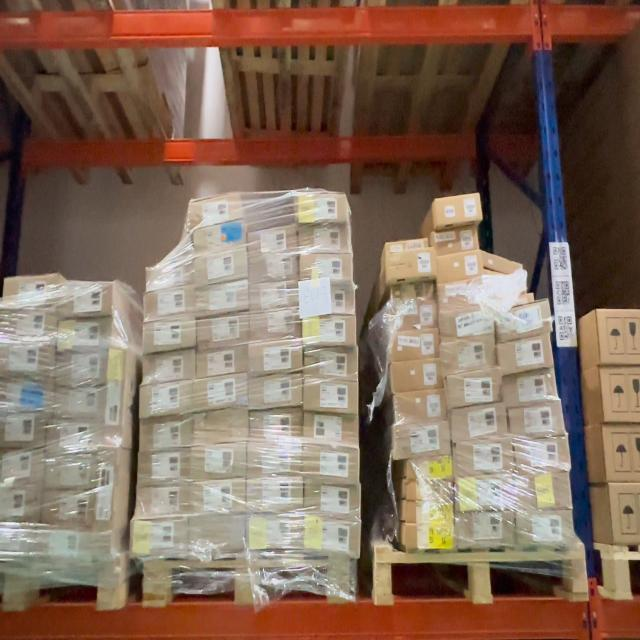box: (454, 508, 516, 548), (500, 332, 555, 377), (512, 435, 572, 476), (496, 298, 554, 340), (95, 447, 120, 543), (453, 436, 514, 475), (514, 509, 573, 549), (455, 473, 515, 512), (443, 368, 500, 408), (392, 420, 449, 460), (300, 279, 357, 319), (103, 342, 127, 437), (508, 400, 566, 439), (303, 514, 361, 553), (131, 517, 187, 556), (516, 473, 573, 511), (451, 402, 508, 440), (504, 369, 561, 407), (303, 446, 359, 484), (190, 478, 246, 516), (139, 379, 196, 416), (58, 281, 113, 318), (248, 476, 304, 512), (142, 318, 195, 356), (142, 287, 196, 324), (303, 412, 361, 446), (3, 272, 61, 306), (250, 373, 305, 408), (195, 278, 250, 313), (136, 448, 191, 483), (439, 306, 494, 341), (248, 514, 300, 551), (250, 340, 303, 376), (45, 454, 98, 490), (441, 338, 496, 372), (304, 346, 357, 381), (304, 379, 357, 414), (248, 442, 301, 477), (192, 443, 245, 478), (135, 484, 189, 518), (304, 487, 361, 519), (43, 423, 100, 455), (195, 373, 247, 408), (144, 349, 196, 384), (193, 249, 248, 282), (190, 516, 243, 550), (43, 493, 96, 527), (56, 354, 107, 389), (34, 531, 93, 561), (1, 448, 42, 491), (193, 409, 248, 441), (57, 320, 112, 352), (434, 246, 484, 281), (390, 359, 440, 394), (0, 346, 56, 377), (389, 327, 438, 362), (394, 389, 444, 423), (197, 314, 250, 346), (384, 249, 435, 282), (389, 302, 441, 334), (186, 194, 241, 224), (142, 419, 192, 452), (0, 382, 53, 412), (52, 390, 106, 419), (304, 314, 355, 344), (197, 346, 251, 374), (300, 222, 350, 252), (195, 221, 245, 250), (434, 194, 482, 224), (0, 416, 44, 448), (403, 523, 455, 550), (250, 313, 300, 341), (0, 314, 56, 339), (0, 488, 41, 522), (145, 261, 191, 291), (251, 412, 303, 438), (251, 282, 299, 310), (249, 227, 295, 256), (433, 226, 481, 253), (489, 288, 538, 314), (297, 195, 344, 222), (404, 455, 451, 482), (437, 280, 487, 305), (403, 499, 454, 523), (301, 255, 349, 280), (249, 253, 297, 278), (0, 528, 36, 557), (388, 282, 434, 304), (404, 481, 453, 501), (480, 251, 528, 270), (385, 239, 429, 250)
